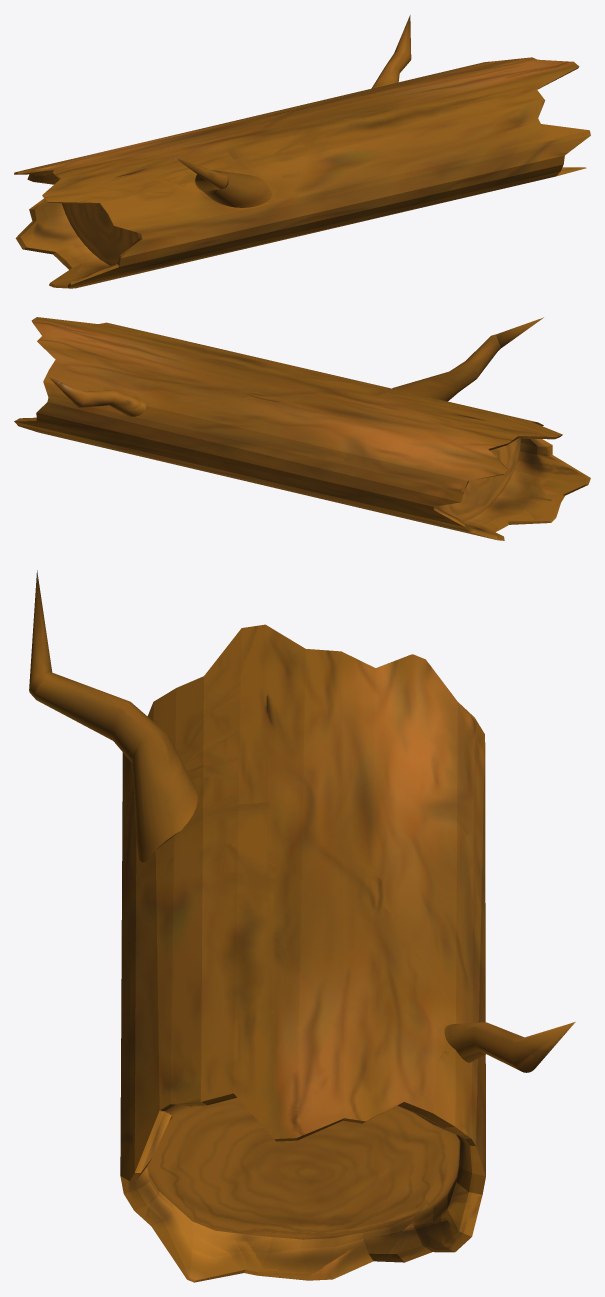
File: normal_log_platform.fbx
3 views of the same model, one above another, from view 1: azimuth 30°, elevation 25°; view 2: azimuth 150°, elevation 25°; view 3: azimuth 270°, elevation 25° (orthographic). The views are drawn at different scales.
Visible parts, largest first — view 1: Cylinder; view 2: Cylinder; view 3: Cylinder.
Boxes of the visible parts, x1=… form: Cylinder: x1=14, y1=15, x2=590, y2=288; Cylinder: x1=14, y1=317, x2=590, y2=540; Cylinder: x1=29, y1=570, x2=575, y2=1282.
Bounding box in the file's own units: 331 × 94.15 × 150.
1 material, 1 textured.
